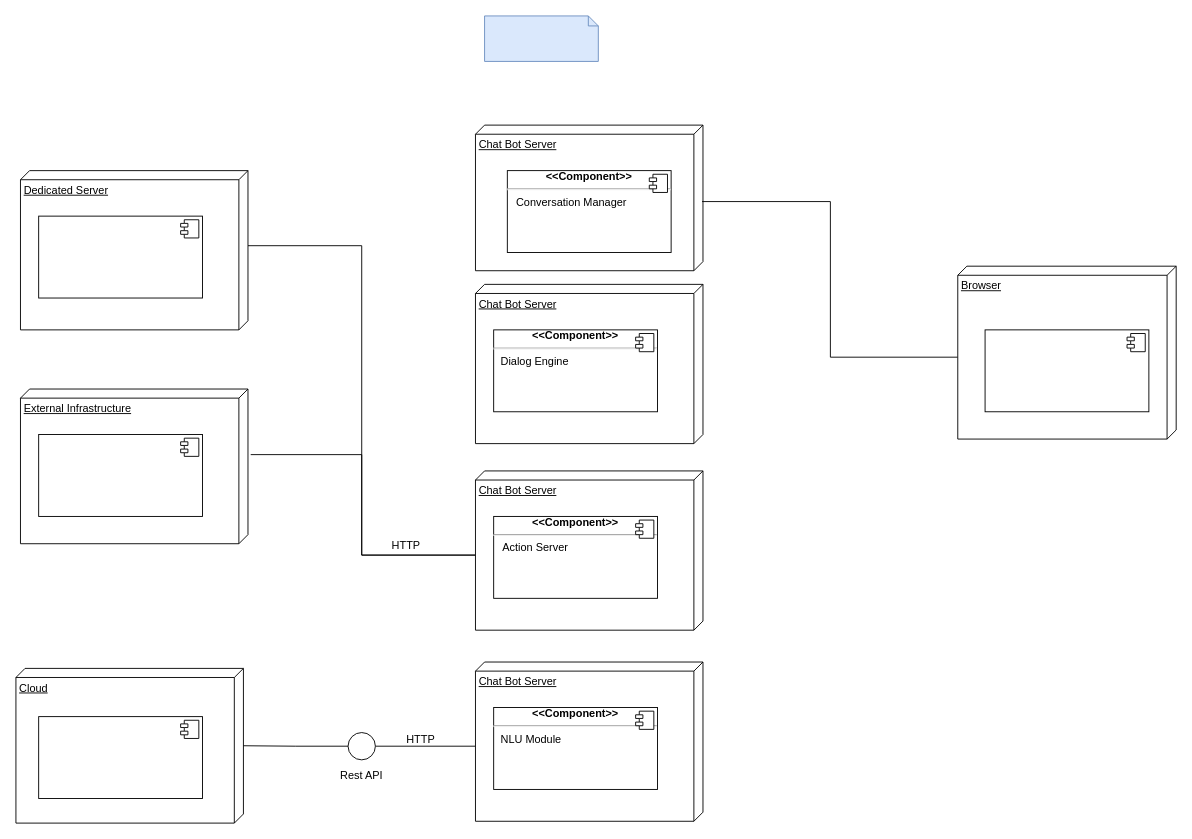
The diagram is 1192 pixels wide and 839 high, and some of its shapes have lost their labels. Here are the shapes that lost their labels. From the top down, the centre of each, then its label:
At point 541,38: "AS-EX 5.3b Grupo 601 (DF, DC, ST, FC) v2022/04/06".
At point 120,256: "<<Component>> Idea DB".
At point 1066,370: "<<Component>> Front End Client".
At point 120,475: "<<Component>> External Knowledge Base".
At point 120,757: "<<Framework IA>> - Text Recognition - Concept Catgorization - etc...".
